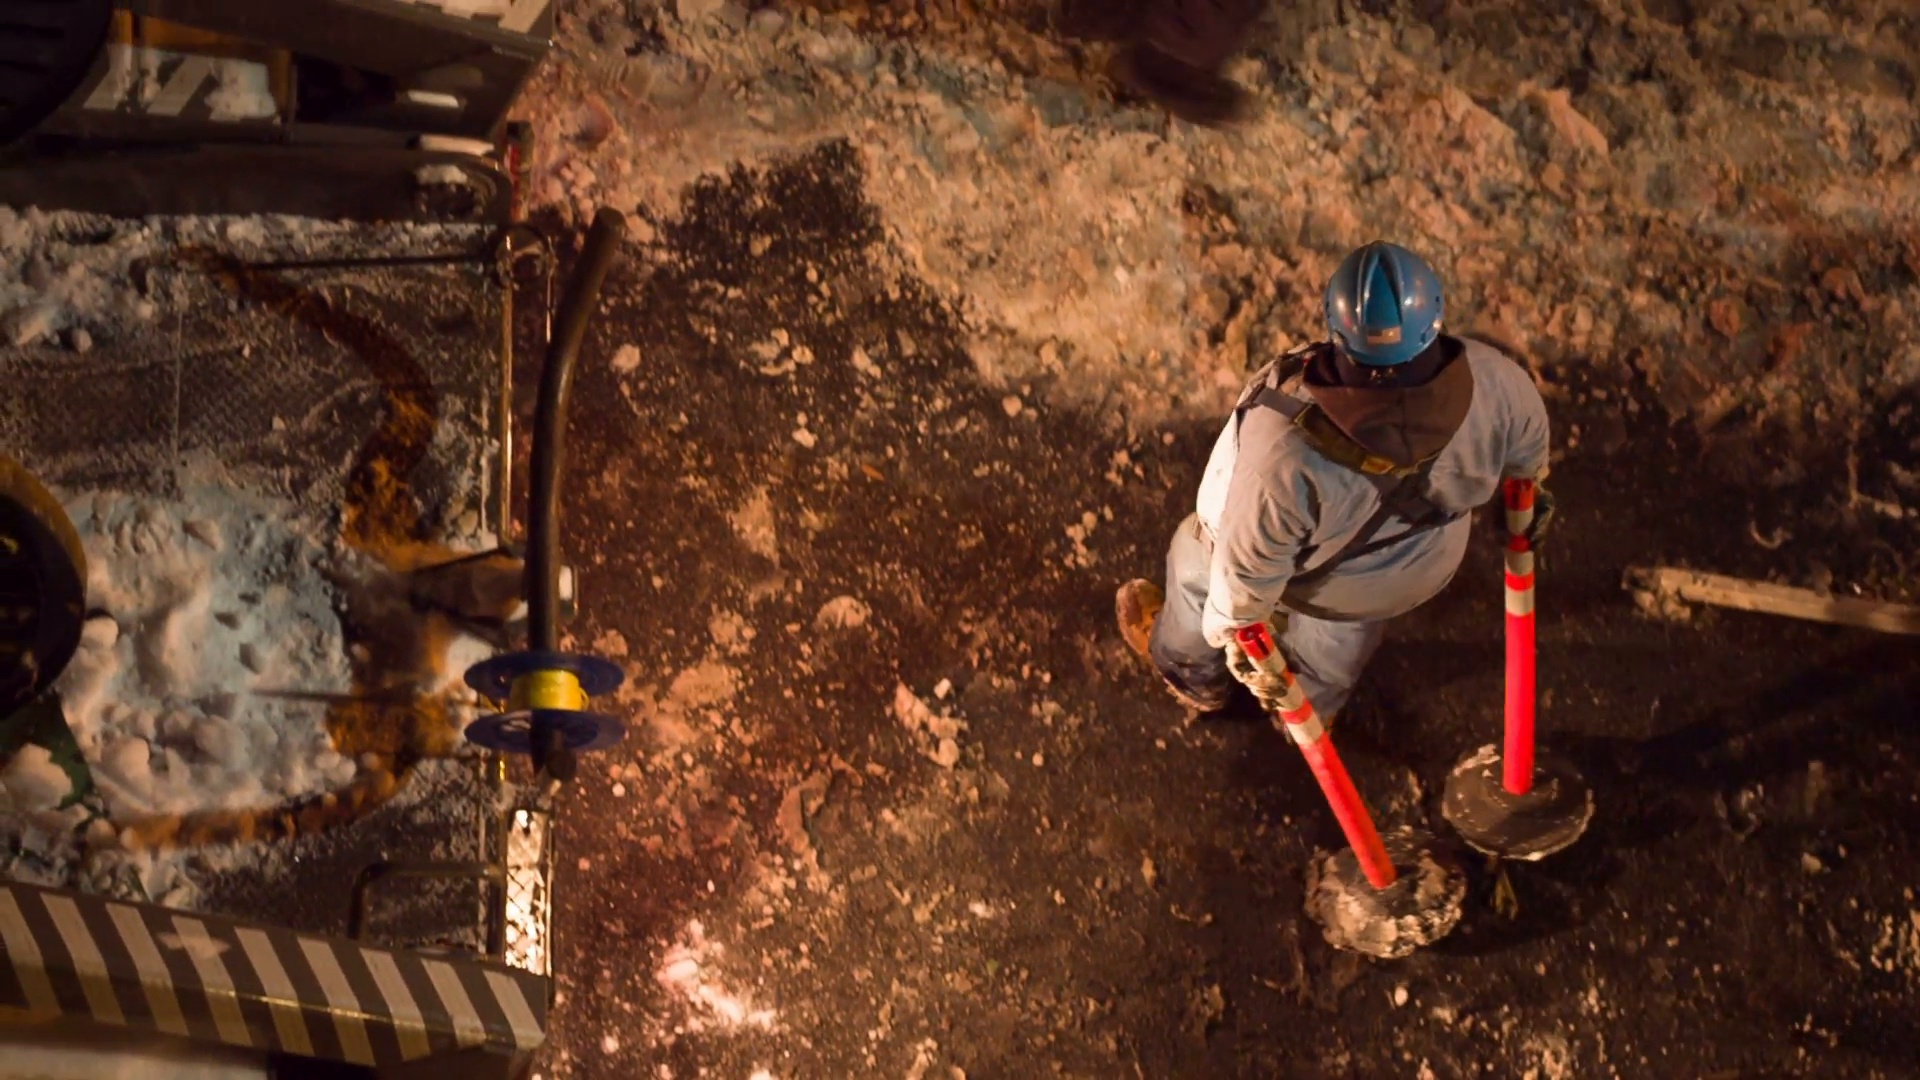blue: (1325, 240, 1447, 380)
